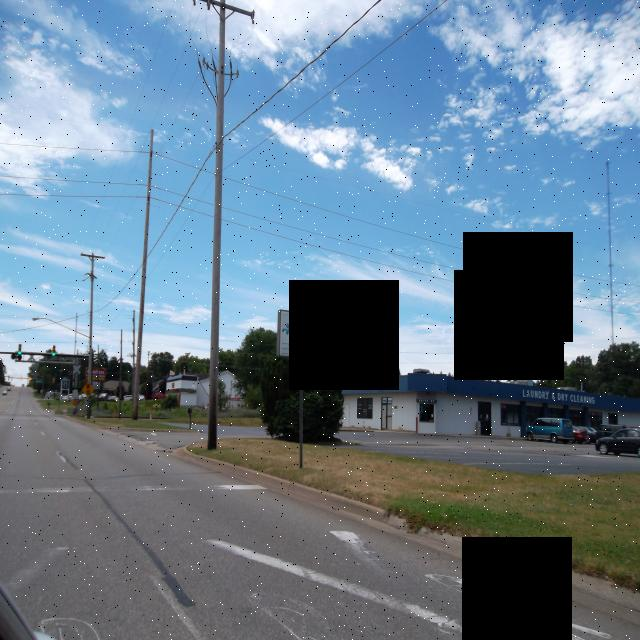regulatory: (292, 304, 312, 348)
